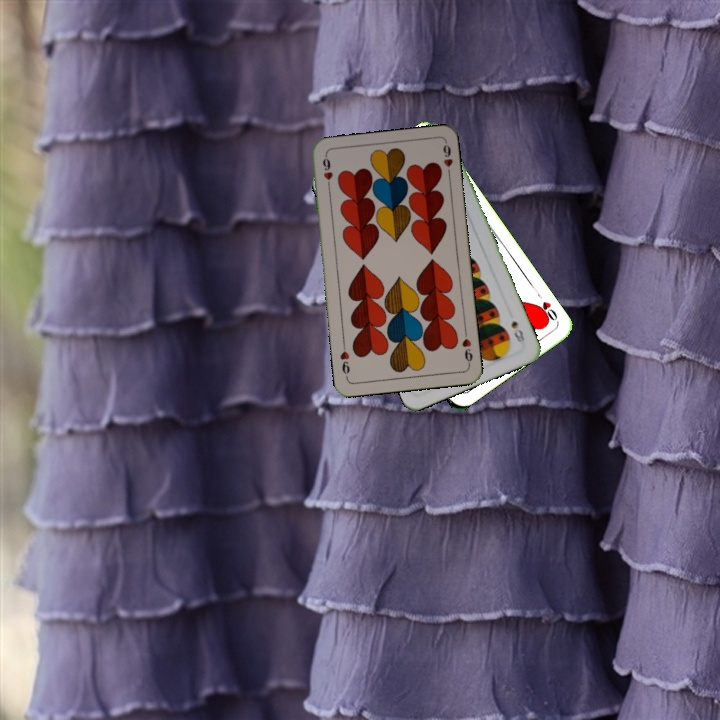H9: (458, 327, 475, 368), (319, 152, 335, 193)
HO: (532, 289, 561, 325)
S8: (507, 317, 527, 346)
